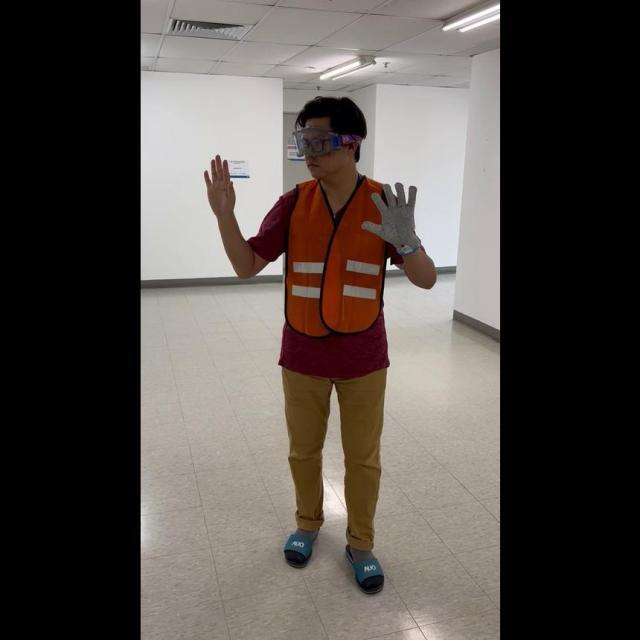bare_hand: (202, 150, 236, 220)
gloved_hand: (362, 177, 423, 255)
